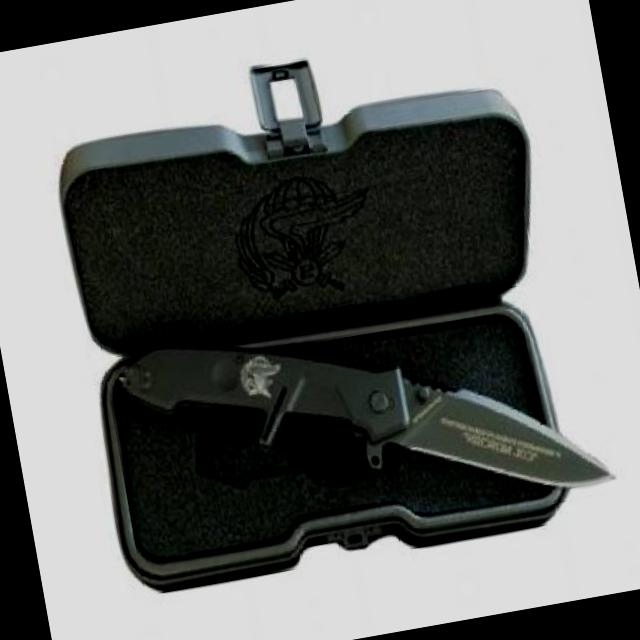knife: (342, 324, 628, 526)
